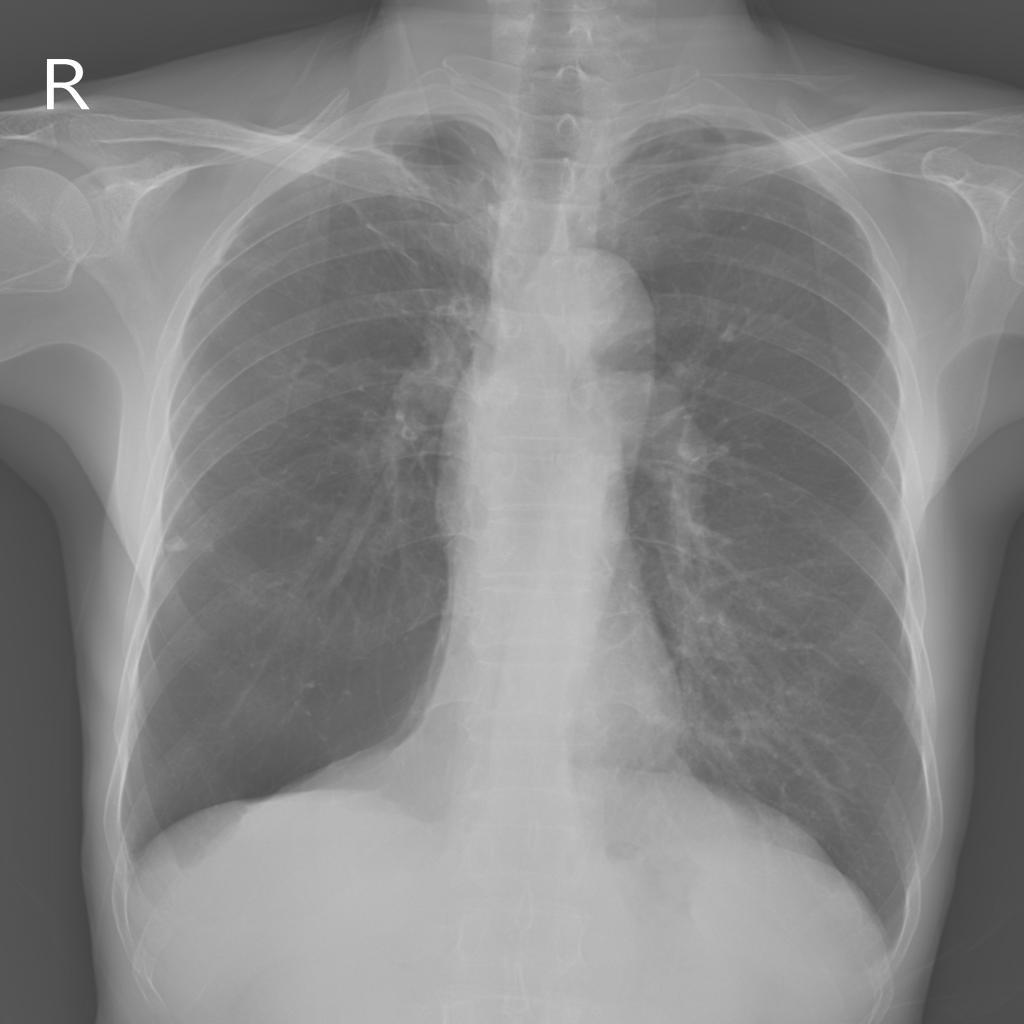Nodule: (164, 533, 191, 555)
